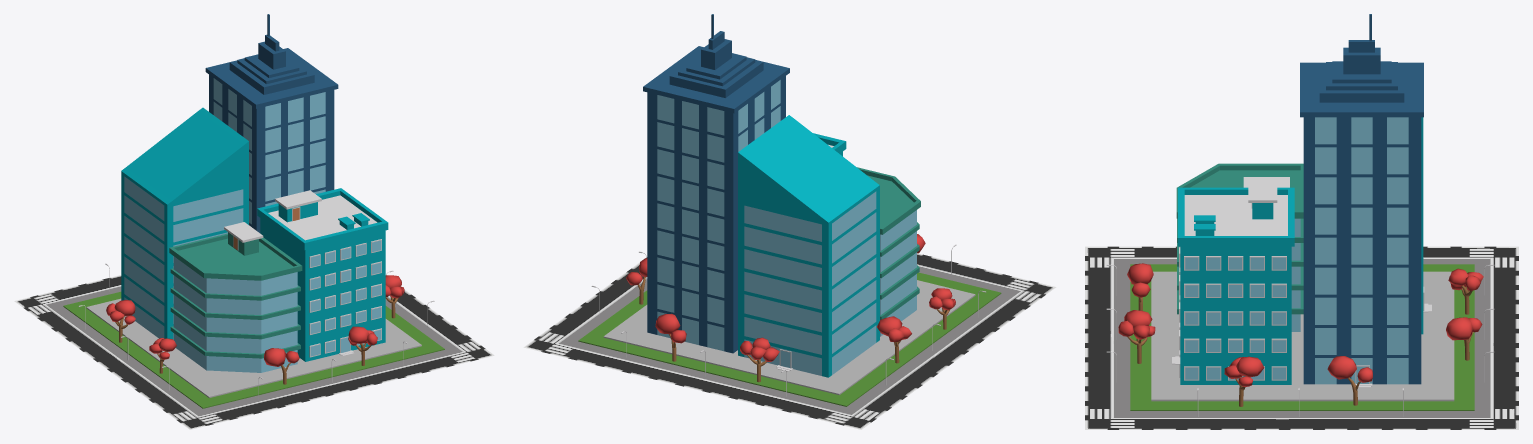
Rendered from BusninessArea.fbx.
The picture shows the model from 3 angles, left to right: view 1: azimuth 30°, elevation 25°; view 2: azimuth 150°, elevation 25°; view 3: azimuth 270°, elevation 25°; orthographic projection. The views are drawn at different scales.
Visible parts, largest first — view 1: BusninessArea; view 2: BusninessArea; view 3: BusninessArea.
Part boxes in pixels (bbox=[...]): BusninessArea: bbox=[14, 14, 494, 429]; BusninessArea: bbox=[523, 14, 1056, 429]; BusninessArea: bbox=[1085, 14, 1518, 429].
Size of the model in its own units: 1000 by 896 by 1000.
2 materials, 2 textured.
